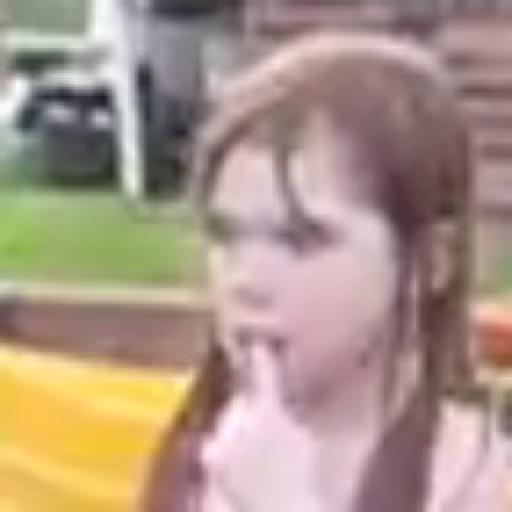Autism: (196, 86, 447, 420)
